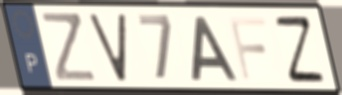7: (134, 12, 176, 84)
A: (190, 14, 241, 83)
F: (226, 15, 269, 83)
V: (86, 11, 129, 84)
Z: (39, 10, 99, 83), (271, 14, 328, 85)
